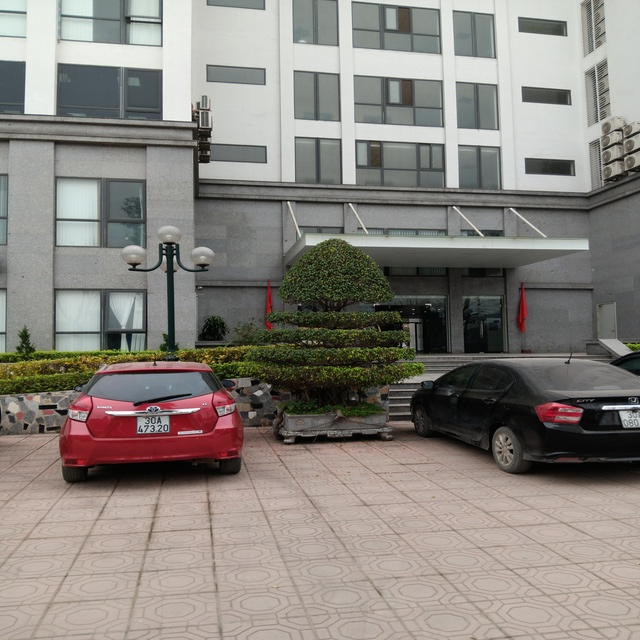caycanh: (256, 233, 408, 448)
